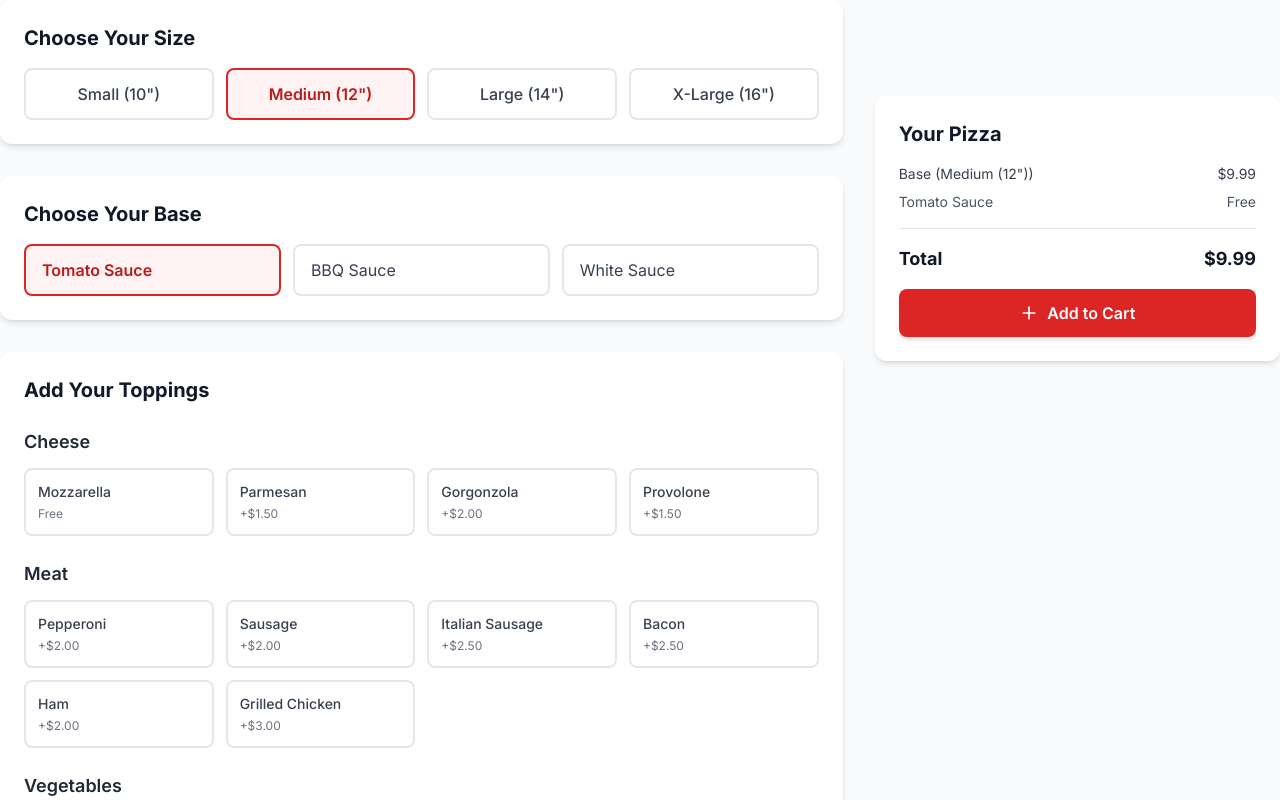
Test: PizzaBuilder › should show "Added!" confirmation after clicking add to cart
The image size is (1280, 800).
Click the button with test id "add-to-cart-builder" at (1077, 313), box left=899, top=289, right=1256, bottom=337
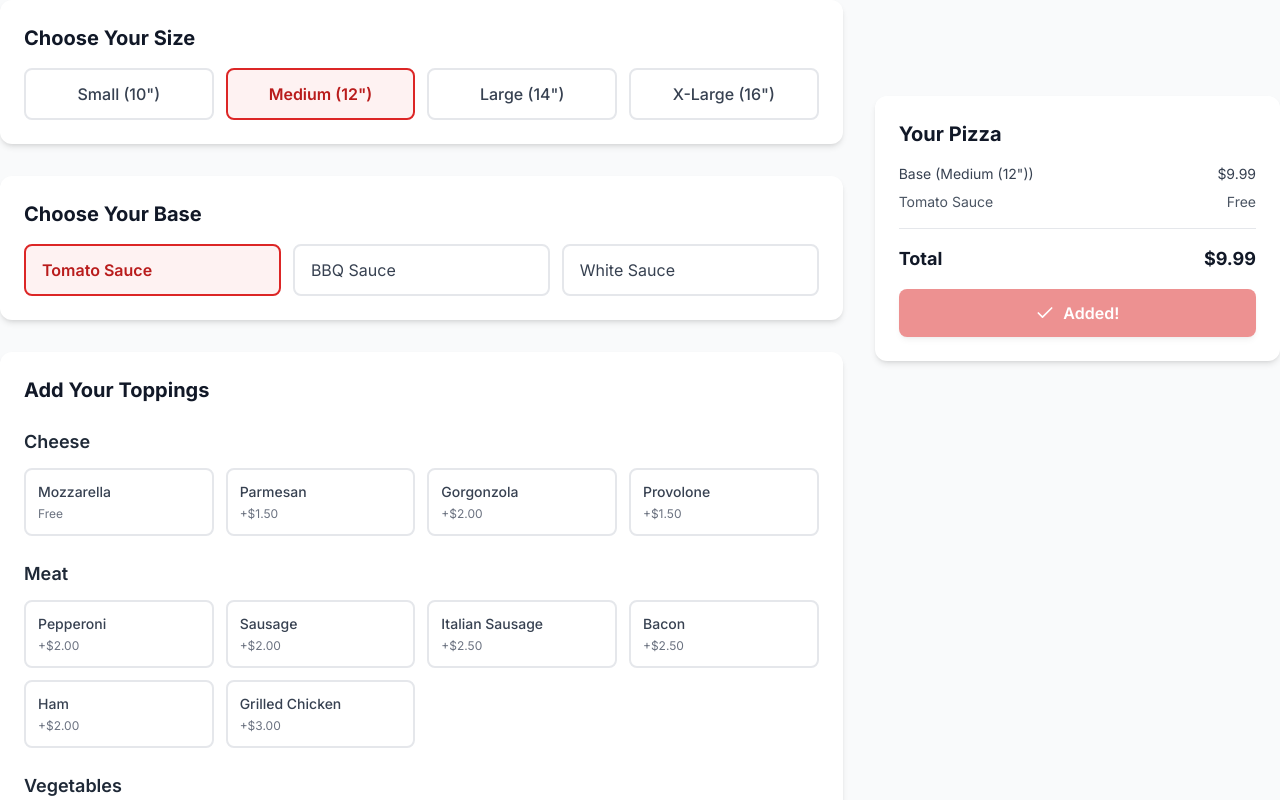
Expected: the button "Added!" is shown, left=899, top=289, right=1256, bottom=337
